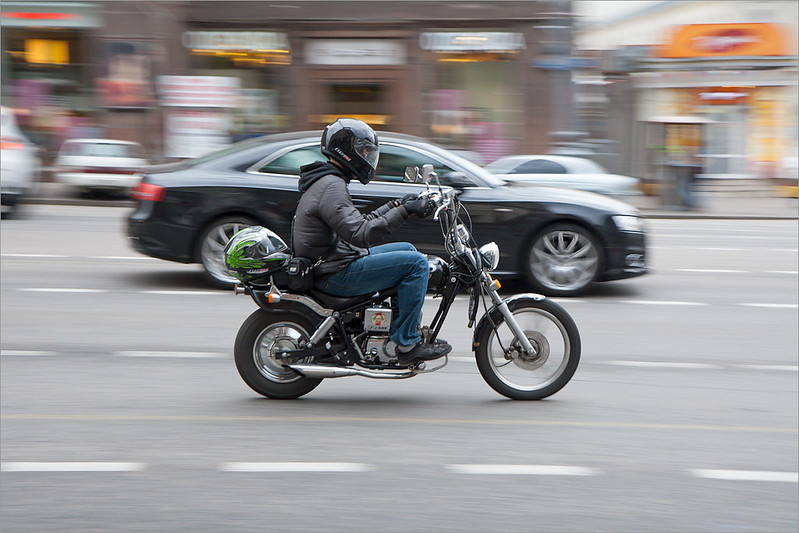helmet: (319, 112, 385, 188)
